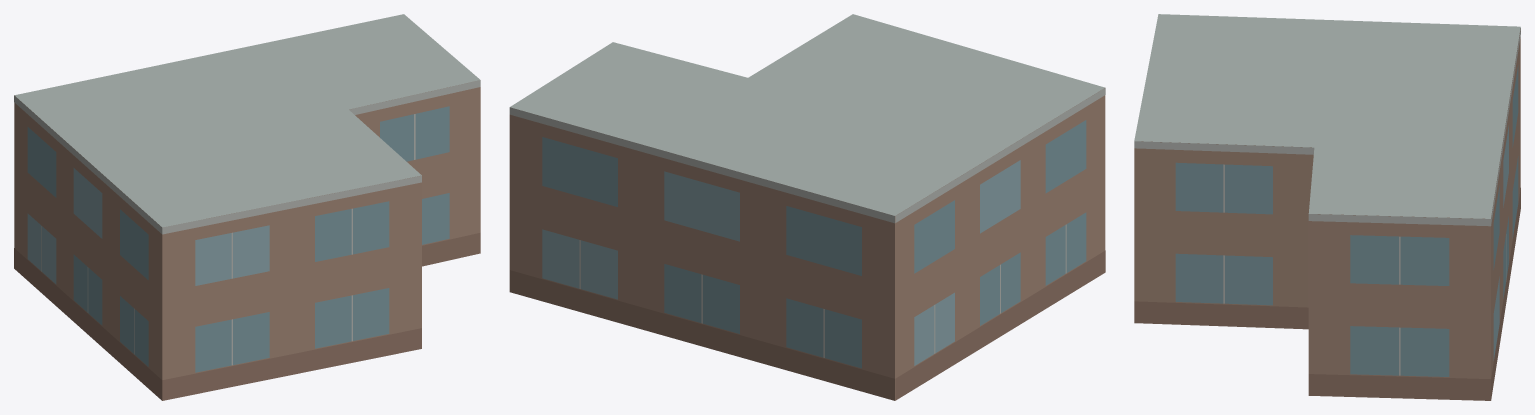
The model's file is survey-upis-32928613.glb.
3 views of the same model, side by side, from view 1: azimuth 30°, elevation 25°; view 2: azimuth 150°, elevation 25°; view 3: azimuth 270°, elevation 25° (orthographic). The views are drawn at different scales.
Visible parts, largest first — view 1: survey-upis-32928613.tmp; view 2: survey-upis-32928613.tmp; view 3: survey-upis-32928613.tmp.
Boxes of the visible parts, x1,y1,x2,y2 form: survey-upis-32928613.tmp: [14, 14, 480, 400]; survey-upis-32928613.tmp: [509, 14, 1105, 400]; survey-upis-32928613.tmp: [1134, 14, 1520, 400].
Size of the model in its own units: 14.75 by 6.1 by 11.76.
